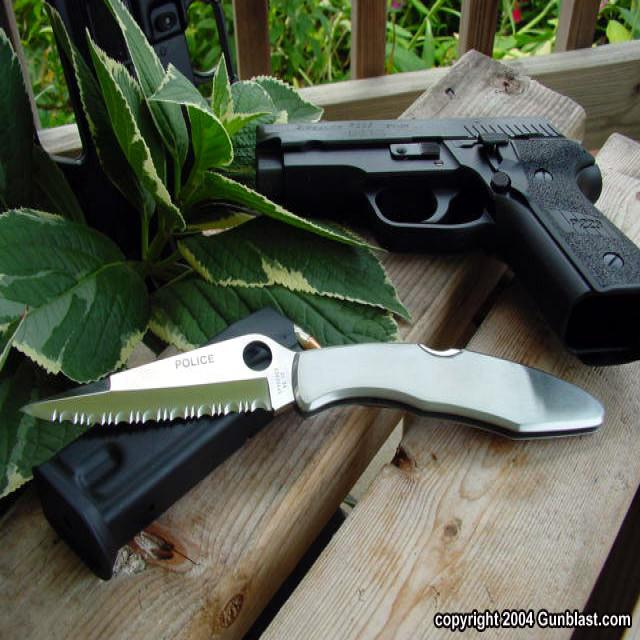knife: (23, 333, 609, 440)
